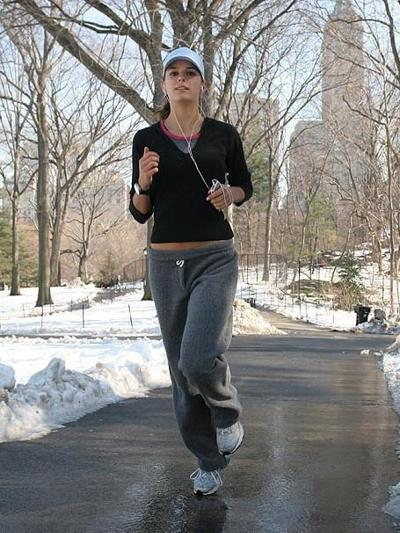person: (127, 48, 255, 498)
